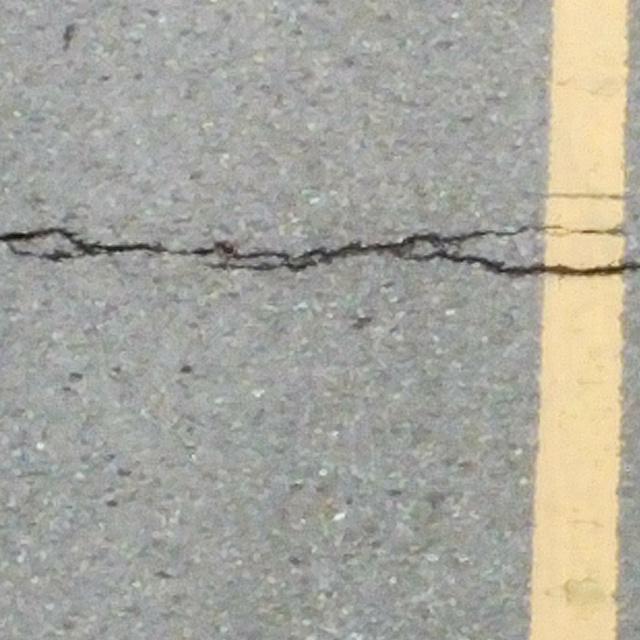TransverseCrack: (1, 223, 640, 279)
